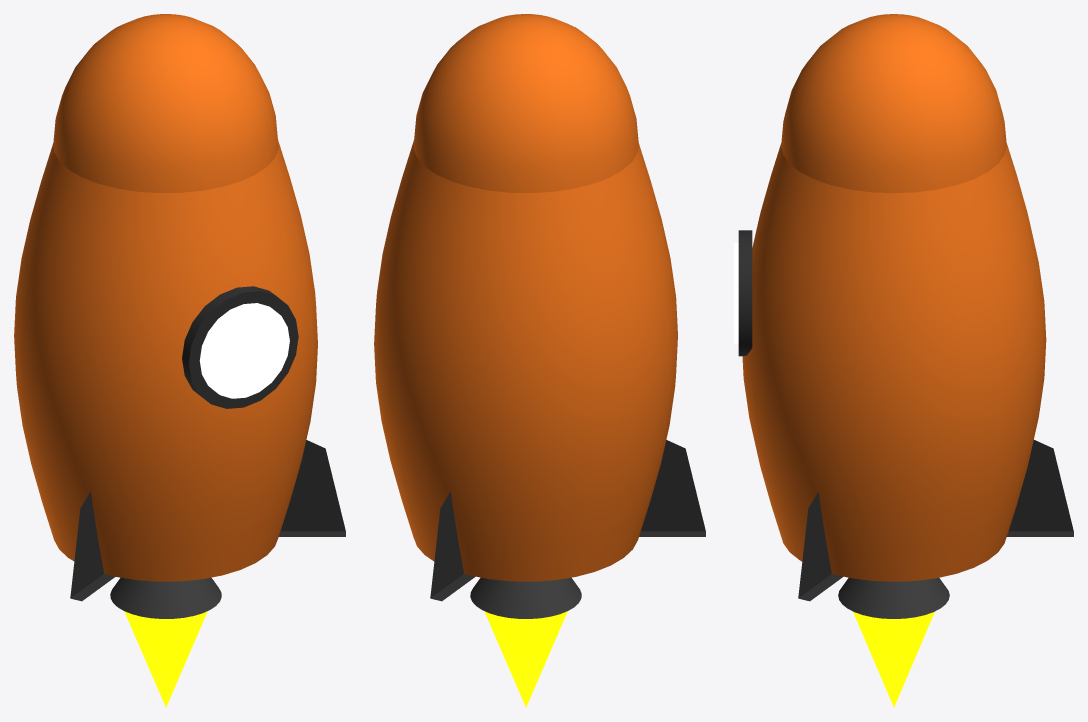
Rendered from Rocket_03_OrangePod.fbx.
3 renders of one model, left to right at view 1: azimuth 30°, elevation 25°; view 2: azimuth 150°, elevation 25°; view 3: azimuth 270°, elevation 25°, orthographic.
Visible parts, largest first — view 1: R03_Body, R03_Nose, R03_Window_1, R03_WindowFrame_1, R03_Fin_3, R03_Nozzle_1, R03_Flame_1, R03_Fin_2; view 2: R03_Body, R03_Nose, R03_Fin_2, R03_Nozzle_1, R03_Flame_1, R03_Fin_1; view 3: R03_Body, R03_Nose, R03_Fin_1, R03_Nozzle_1, R03_Flame_1, R03_Fin_3, R03_WindowFrame_1.
Boxes of the visible parts, x1,y1,x2,y2 form: R03_Body: [14, 140, 317, 581]; R03_Nose: [53, 14, 278, 192]; R03_Window_1: [199, 303, 289, 398]; R03_WindowFrame_1: [182, 286, 298, 408]; R03_Fin_3: [279, 440, 345, 536]; R03_Nozzle_1: [110, 577, 221, 618]; R03_Flame_1: [124, 611, 207, 707]; R03_Fin_2: [70, 491, 115, 601]; R03_Body: [374, 140, 677, 581]; R03_Nose: [413, 14, 638, 192]; R03_Fin_2: [639, 440, 705, 536]; R03_Nozzle_1: [470, 577, 581, 618]; R03_Flame_1: [484, 611, 567, 707]; R03_Fin_1: [430, 491, 475, 601]; R03_Body: [742, 143, 1046, 581]; R03_Nose: [781, 14, 1006, 193]; R03_Fin_1: [1007, 440, 1073, 536]; R03_Nozzle_1: [838, 578, 949, 618]; R03_Flame_1: [853, 611, 934, 707]; R03_Fin_3: [798, 492, 843, 601]; R03_WindowFrame_1: [738, 230, 752, 356].
Bounding box in the file's own units: 2.82 × 6.7 × 3.01.
